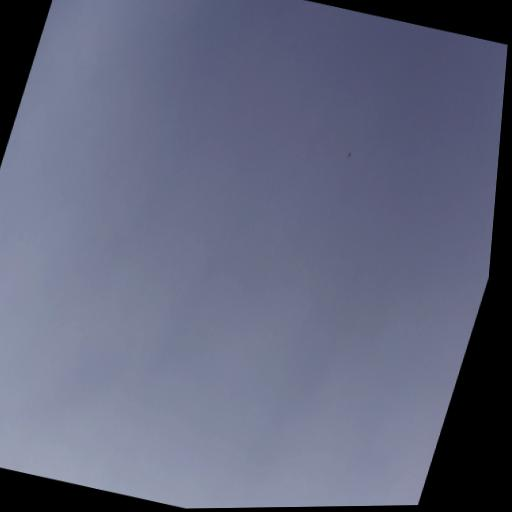drones: (344, 149, 353, 161)
